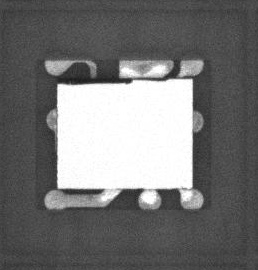DIE_BROKEN: (57, 76, 132, 86)
